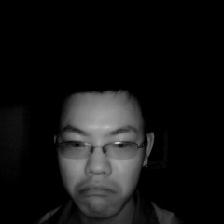sad: (39, 72, 151, 222)
